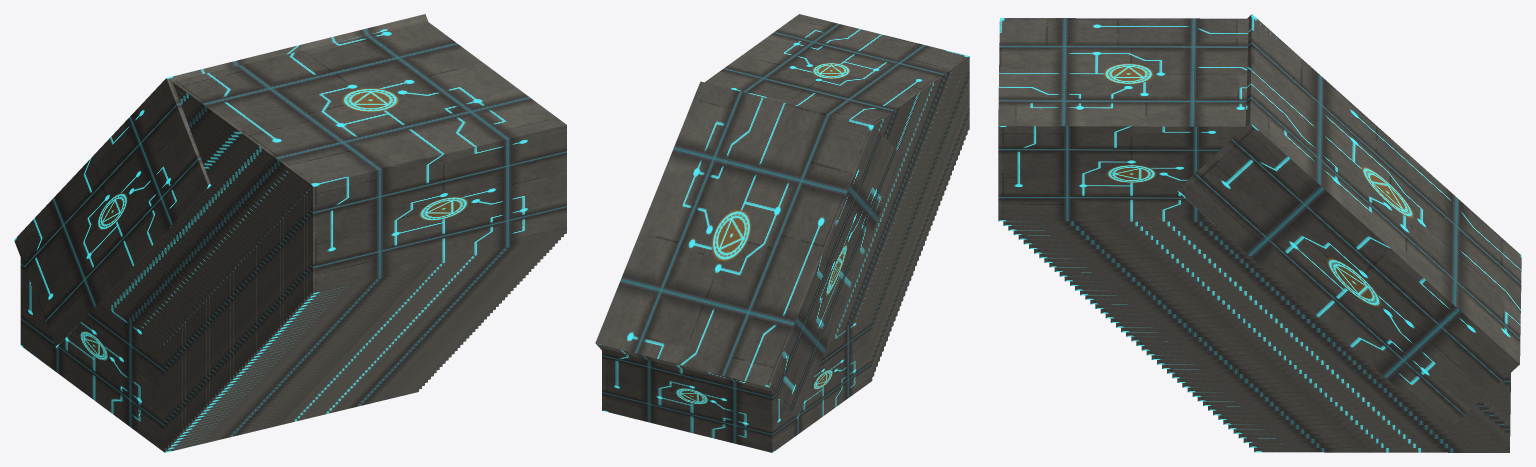
The model's file is Slope.gltf.
3 views of the same model, side by side, from view 1: azimuth 30°, elevation 25°; view 2: azimuth 150°, elevation 25°; view 3: azimuth 270°, elevation 25° (orthographic). The views are drawn at different scales.
Visible parts, largest first — view 1: 立方体.001, COL2, 立方体.051, 立方体.003, 立方体.004, 立方体.002, 立方体.005, 立方体.006, 立方体.007, 立方体.008, 立方体.009, 立方体.010 (+40 smaller); view 2: COL2, 立方体.001, 立方体.051, 立方体.002, 立方体.003, 立方体.004, 立方体.005, 立方体.006, 立方体.012, 立方体.007, 立方体.011, 立方体.008 (+25 smaller); view 3: COL2, 立方体.001, 立方体.051, 立方体.050, 立方体.049, 立方体.047, 立方体.048, 立方体.046, 立方体.045, 立方体.044, 立方体.002, 立方体.004 (+40 smaller).
Boxes of the visible parts, box(x1,y1,x2,y2) form: 立方体.001: box(172, 21, 566, 294); COL2: box(14, 14, 428, 347); 立方体.051: box(20, 258, 418, 452); 立方体.003: box(178, 96, 560, 300); 立方体.004: box(181, 104, 557, 303); 立方体.002: box(175, 89, 563, 297); 立方体.005: box(183, 111, 554, 307); 立方体.006: box(186, 119, 552, 310); 立方体.007: box(189, 126, 549, 313); 立方体.008: box(192, 134, 546, 316); 立方体.009: box(194, 141, 543, 319); 立方体.010: box(197, 148, 540, 322); COL2: box(595, 81, 902, 418); 立方体.001: box(705, 14, 969, 130); 立方体.051: box(602, 308, 872, 452); 立方体.002: box(839, 61, 967, 135); 立方体.003: box(845, 66, 965, 140); 立方体.004: box(850, 71, 963, 145); 立方体.005: box(856, 76, 961, 150); 立方体.006: box(884, 81, 959, 155); 立方体.012: box(894, 106, 950, 180); 立方体.007: box(886, 86, 957, 160); 立方体.011: box(896, 111, 948, 185); 立方体.008: box(888, 91, 955, 165); COL2: box(1176, 14, 1521, 431); 立方体.001: box(998, 18, 1255, 221); 立方体.051: box(1254, 373, 1510, 452); 立方体.050: box(1249, 379, 1504, 448); 立方体.049: box(1243, 383, 1499, 443); 立方体.047: box(1233, 393, 1489, 434); 立方体.048: box(1238, 388, 1494, 438); 立方体.046: box(1228, 397, 1484, 429); 立方体.045: box(1223, 402, 1479, 425); 立方体.044: box(1218, 407, 1473, 420); 立方体.002: box(1003, 23, 1260, 226); 立方体.004: box(1013, 33, 1270, 235).
Bounding box in the file's own units: 10.27 × 14.29 × 20.46.
53 materials, 53 textured.
